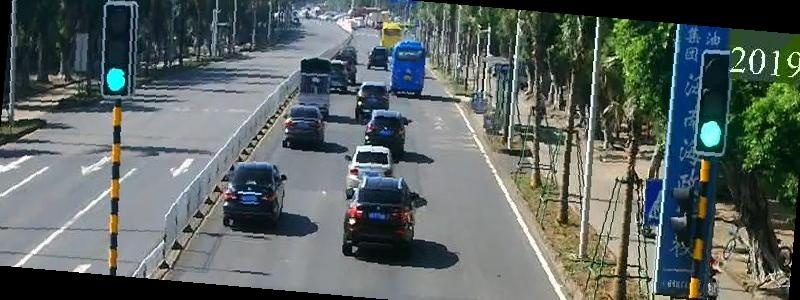green: (88, 58, 142, 102), (686, 114, 737, 158)
